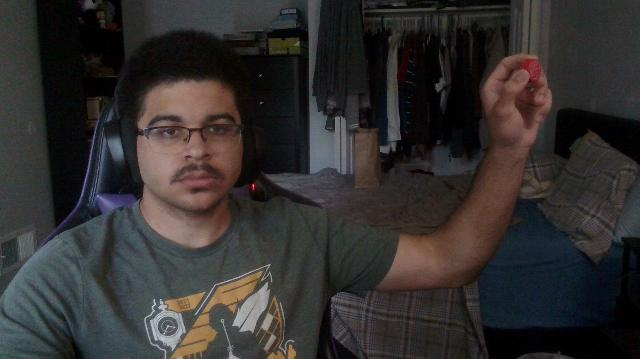cap: (523, 59, 541, 81)
